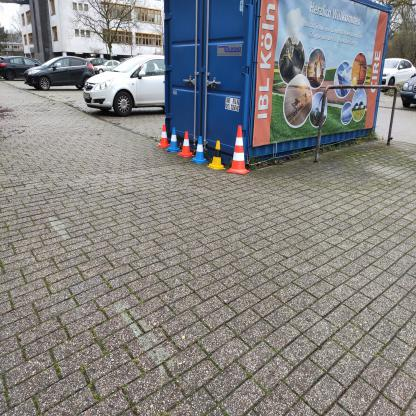Cones_big: (227, 124, 258, 182)
Cones_small_blue: (193, 136, 207, 166), (169, 127, 179, 154)
Cones_small_orange: (155, 122, 169, 152), (180, 130, 194, 158)
Cones_small_yellow: (211, 138, 225, 174)
